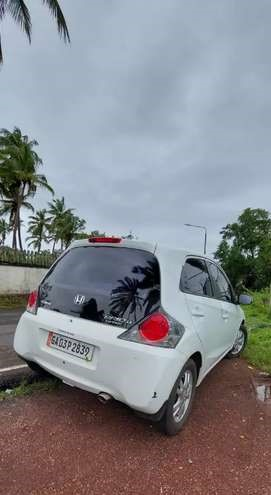GA03P2839: (46, 330, 95, 359)
